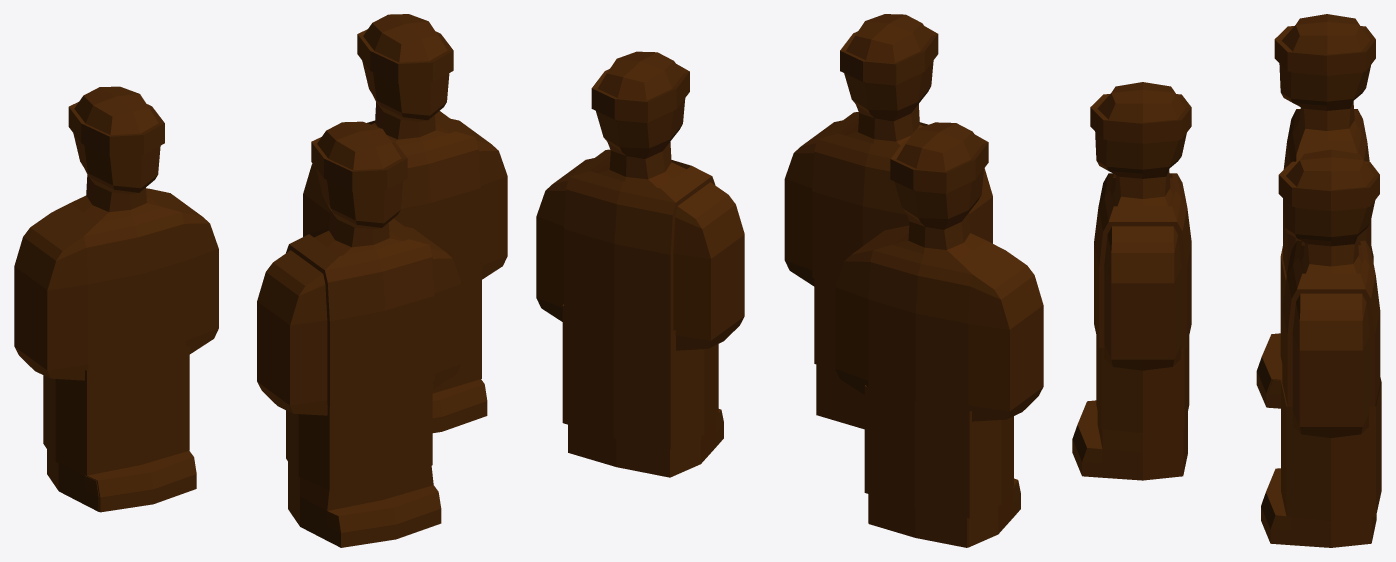
File: lsv.fbx
3 views of the same model, side by side, from view 1: azimuth 30°, elevation 25°; view 2: azimuth 150°, elevation 25°; view 3: azimuth 270°, elevation 25° (orthographic). The views are drawn at different scales.
Visible parts, largest first — view 1: skin.001, skin, torso, shorts.001, skin.002, shorts, torso.001, boots, boots.001, shorts.002, bandan.001, bandan (+2 smaller); view 2: skin.001, skin.002, shorts.002, torso.001, shorts.001, skin, torso, boots.002, boots.001, bandan, bandan.002, bandan.001 (+2 smaller); view 3: skin, skin.002, skin.001, shorts.002, shorts, boots, torso, torso.001, boots.002, bandan.001, bandan.002, bandan (+2 smaller).
Part boxes in pixels (x1,y1,x2,y2): skin.001: (14,86,218,511); skin: (257,121,461,415); torso: (286,218,434,406); shorts.001: (43,345,189,475); skin.002: (303,14,507,279); shorts: (286,381,432,490); torso.001: (367,111,480,270); boots: (288,462,441,547); boots.001: (86,451,196,512); shorts.002: (432,262,481,393); bandan.001: (68,102,164,156); bandan: (311,137,407,191); skin.001: (835,122,1043,547); skin.002: (536,51,744,350); shorts.002: (562,304,718,449); torso.001: (564,149,715,331); shorts.001: (864,385,1013,518); skin: (784,14,992,286); torso: (812,112,927,284); boots.002: (568,409,723,477); boots.001: (868,478,1020,547); bandan: (840,26,938,84); bandan.002: (591,64,689,122); bandan.001: (890,134,988,193); skin: (1095,82,1186,370); skin.002: (1283,149,1375,437); skin.001: (1267,14,1371,408); shorts.002: (1281,377,1381,520); shorts: (1096,336,1189,433); boots: (1072,400,1187,480); torso: (1094,173,1191,347); torso.001: (1282,240,1380,406); boots.002: (1261,468,1376,547); bandan.001: (1274,26,1375,74); bandan.002: (1278,161,1379,210); bandan: (1090,94,1191,142).
Bounding box in the file's own units: 285 × 224 × 173.
